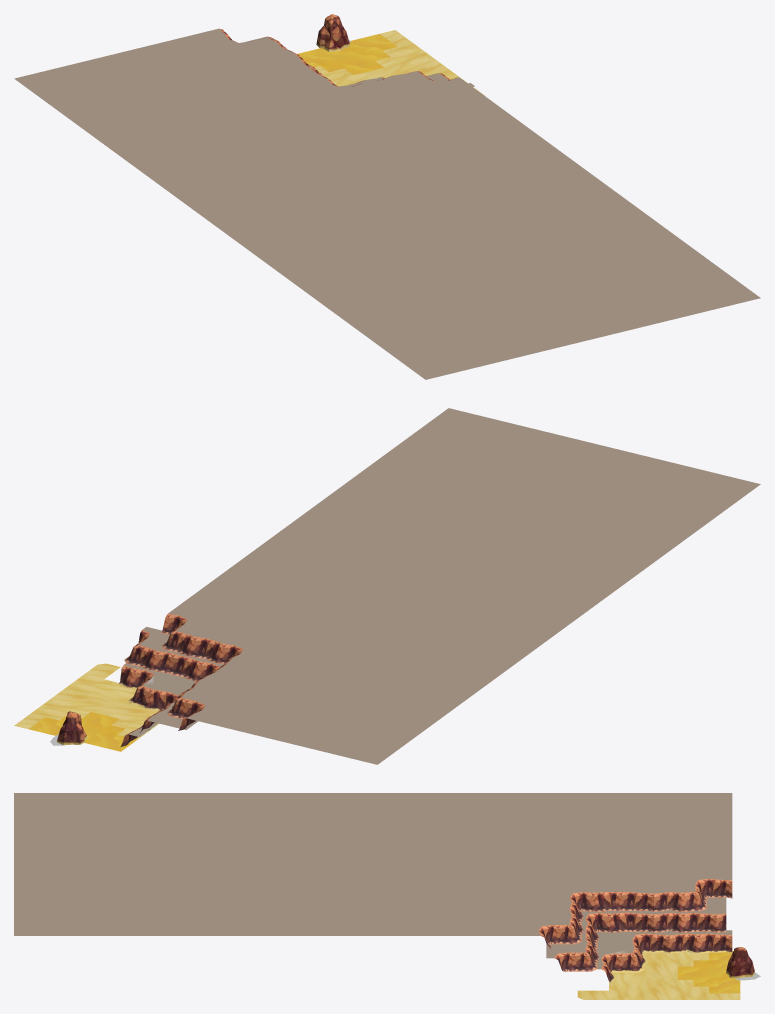
The picture shows the model from 3 angles, top to bottom: view 1: azimuth 30°, elevation 25°; view 2: azimuth 150°, elevation 25°; view 3: azimuth 270°, elevation 25°; orthographic projection. The views are drawn at different scales.
Parts seen in each view (by area): view 1: _0_0_node, _4_0_node, _5_0_node-UV1, _3_0_node, _2_0_node; view 2: _0_0_node, _1_0_node, _3_0_node, _4_0_node, _5_0_node-UV1, _2_0_node; view 3: _0_0_node, _1_0_node, _3_0_node, _4_0_node, _5_0_node-UV1, _2_0_node.
Part boxes in pixels (<box>): _0_0_node: <box>14,28,760,379</box>; _4_0_node: <box>297,34,397,74</box>; _5_0_node-UV1: <box>314,30,421,85</box>; _3_0_node: <box>331,50,484,95</box>; _2_0_node: <box>316,14,350,51</box>; _0_0_node: <box>124,408,760,764</box>; _1_0_node: <box>118,614,243,747</box>; _3_0_node: <box>39,663,158,733</box>; _4_0_node: <box>29,712,136,751</box>; _5_0_node-UV1: <box>14,702,145,739</box>; _2_0_node: <box>56,711,87,745</box>; _0_0_node: <box>14,793,732,969</box>; _1_0_node: <box>539,878,732,982</box>; _3_0_node: <box>577,951,693,999</box>; _4_0_node: <box>677,951,740,993</box>; _5_0_node-UV1: <box>662,952,740,999</box>; _2_0_node: <box>726,947,755,978</box>.
Bounding box in the file's own units: 447 × 859 × 54.
